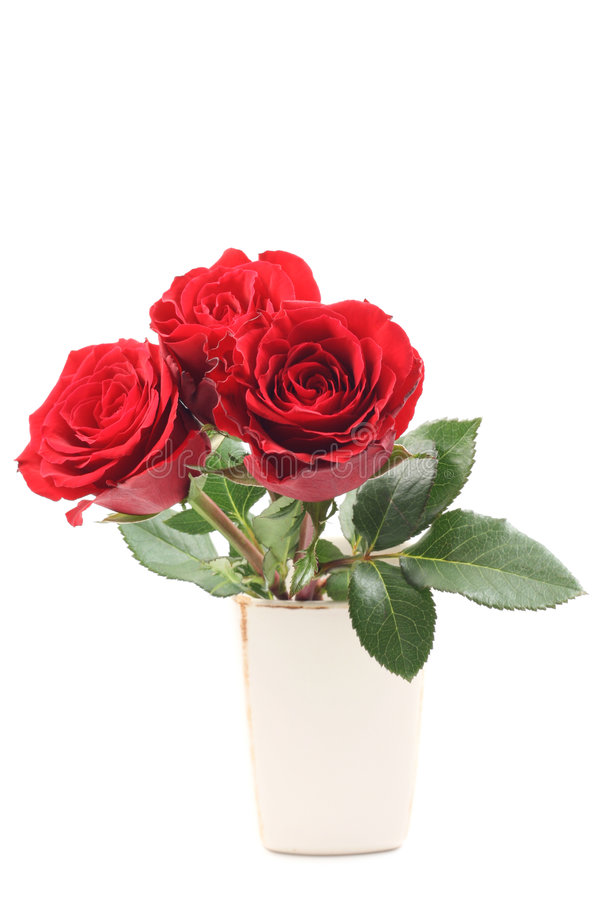RedRose: (131, 164, 360, 423), (13, 294, 215, 548), (235, 263, 441, 496)
